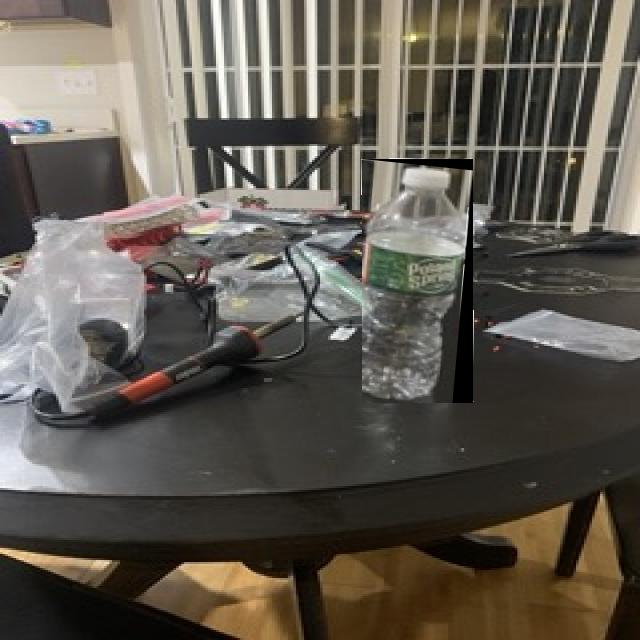water_bottle: (362, 159, 473, 403)
